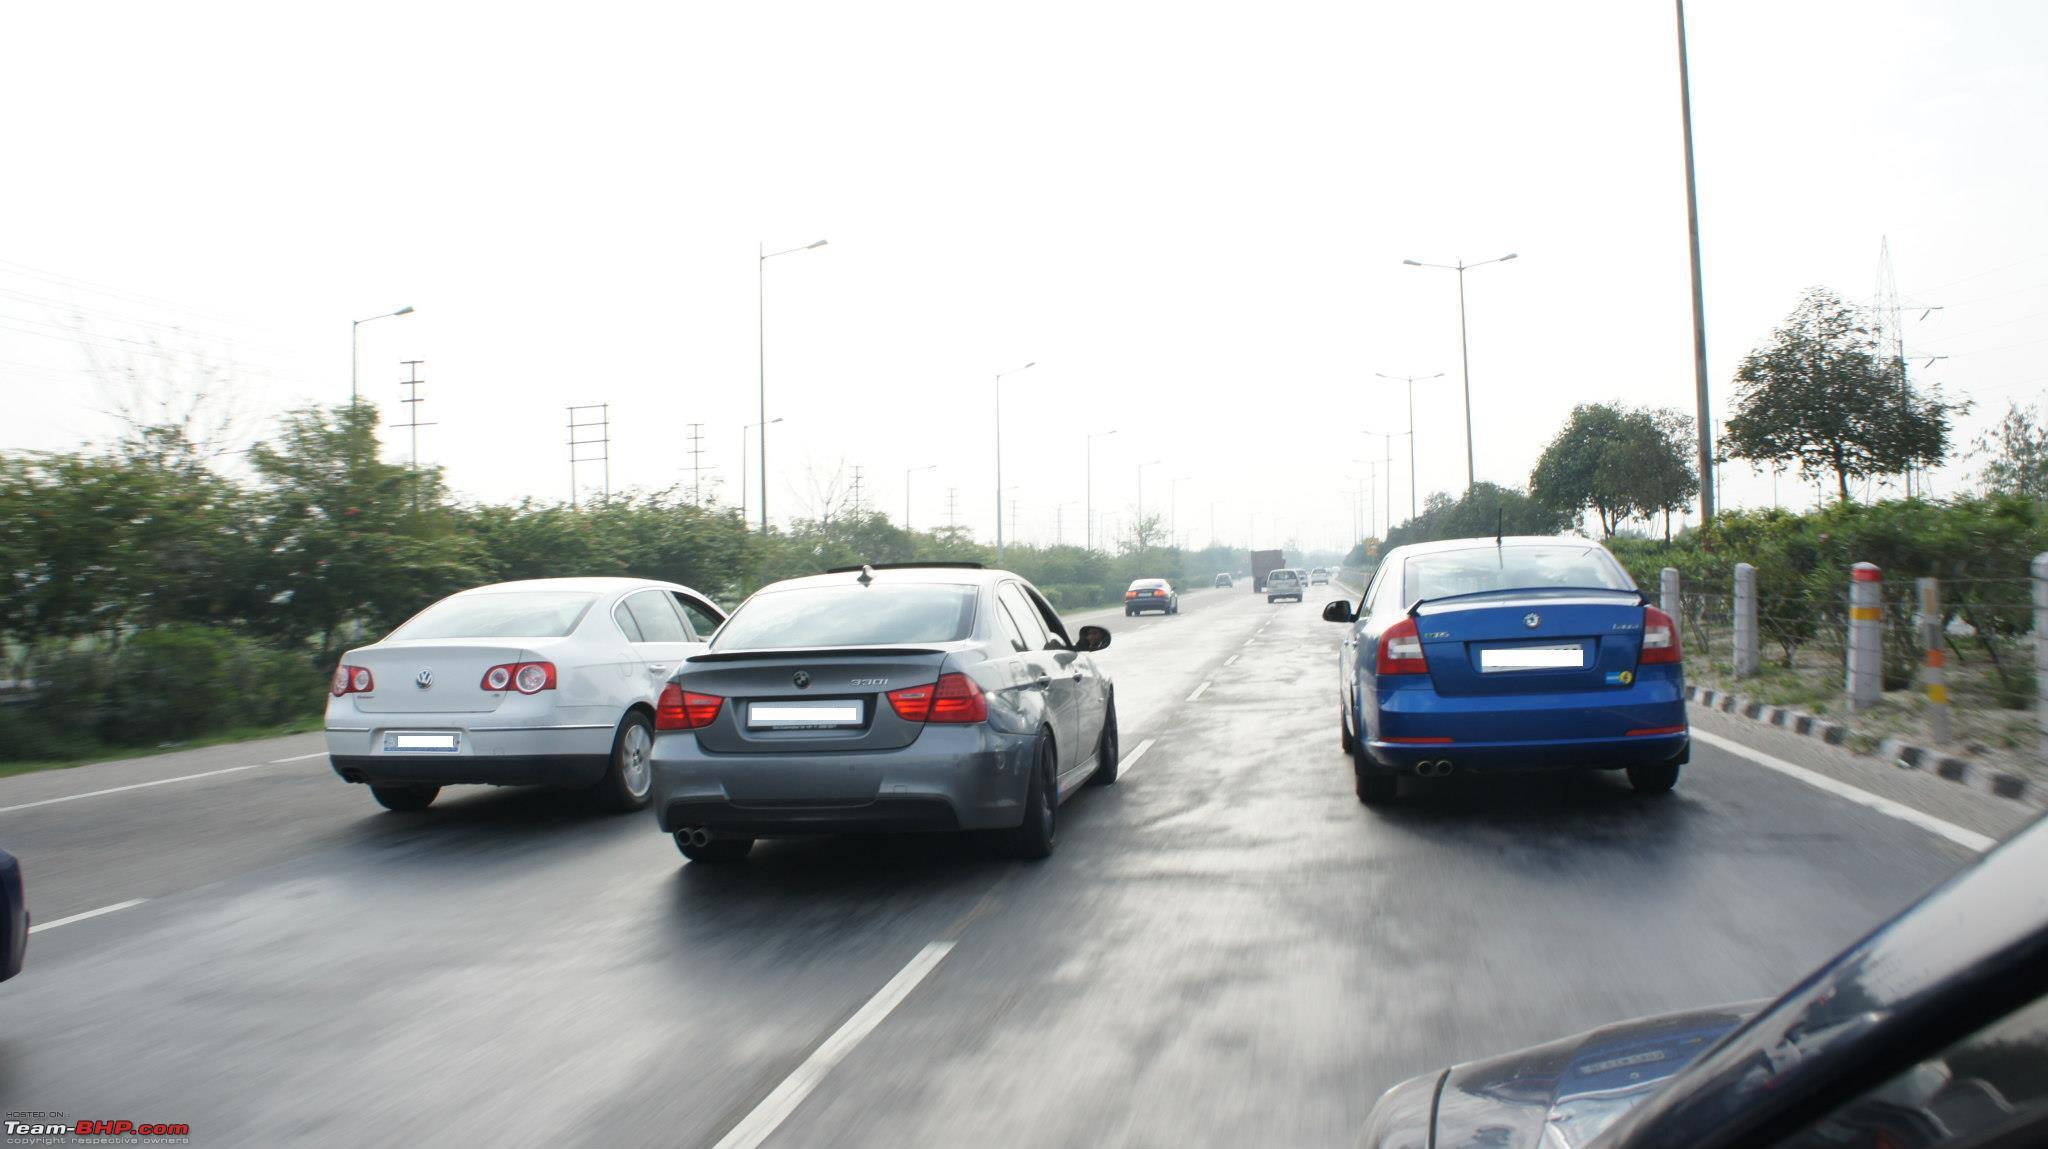Car: (660, 565, 1124, 872), (1319, 539, 1716, 807), (322, 563, 698, 817), (1120, 570, 1184, 619), (1265, 570, 1300, 601)
